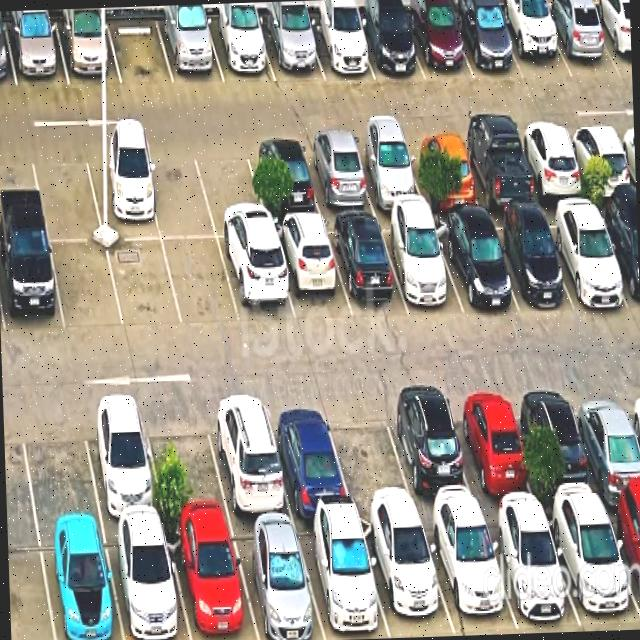empty: (324, 394, 417, 513), (141, 399, 230, 522), (17, 401, 101, 527), (192, 141, 269, 238), (141, 145, 216, 239), (29, 147, 103, 240), (162, 239, 240, 326), (107, 239, 182, 329), (50, 242, 123, 331), (106, 17, 173, 83)
occupied: (543, 504, 640, 631), (382, 390, 480, 514), (482, 510, 581, 630), (421, 512, 518, 634), (294, 517, 389, 640), (359, 517, 455, 637), (446, 387, 539, 510), (229, 521, 325, 640), (204, 393, 293, 520), (165, 522, 258, 640), (517, 384, 603, 508), (264, 397, 353, 516), (79, 400, 164, 523), (103, 524, 190, 640), (38, 526, 122, 640), (540, 206, 630, 307), (431, 216, 519, 314), (484, 214, 572, 311), (569, 383, 640, 503), (378, 218, 464, 314), (271, 220, 351, 323), (325, 218, 408, 317), (83, 147, 161, 240), (218, 238, 295, 323), (457, 130, 537, 209), (245, 139, 322, 219), (0, 238, 64, 334), (350, 136, 426, 211), (300, 138, 375, 214), (496, 6, 572, 81), (404, 133, 481, 207), (540, 6, 620, 77), (515, 126, 588, 202), (451, 7, 523, 79), (565, 124, 636, 197), (404, 7, 474, 80), (353, 11, 424, 79), (595, 205, 640, 310), (205, 16, 275, 83), (156, 17, 224, 83), (55, 18, 121, 85), (304, 16, 374, 79), (5, 20, 69, 87), (603, 501, 640, 616), (259, 18, 324, 80), (590, 5, 632, 75)
